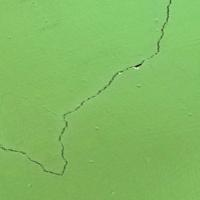crack: (1, 3, 170, 180)
